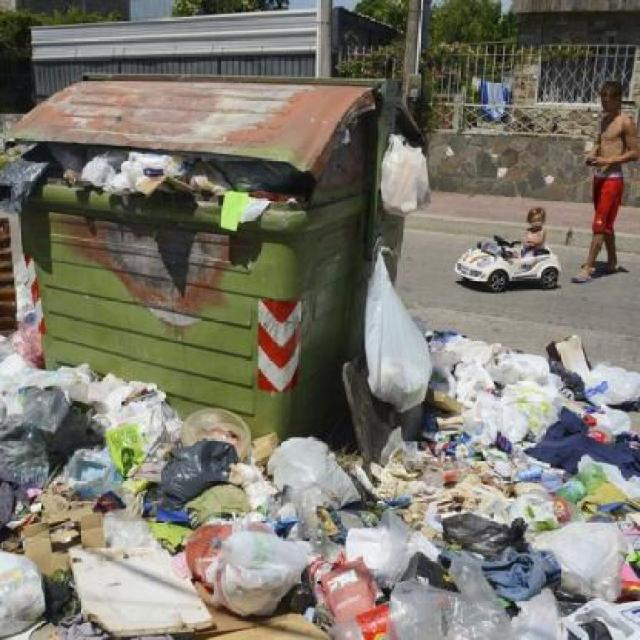garbage: (3, 349, 638, 639), (355, 243, 428, 424), (14, 146, 242, 189), (383, 132, 430, 214)
